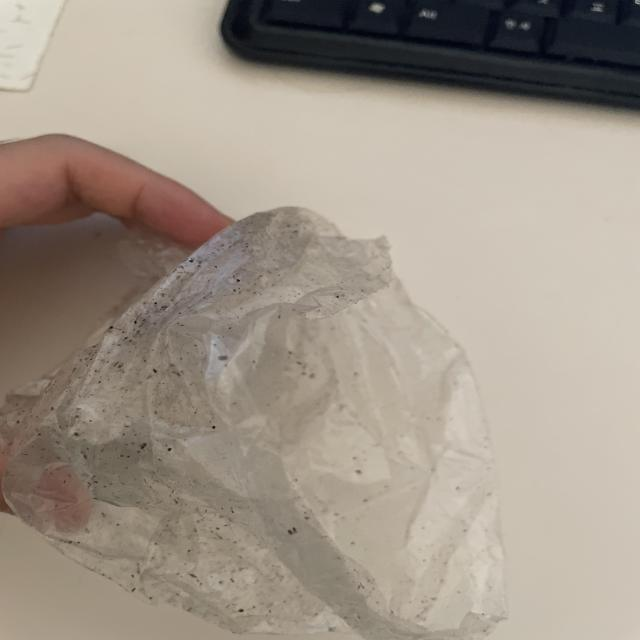litter: (21, 234, 507, 638)
